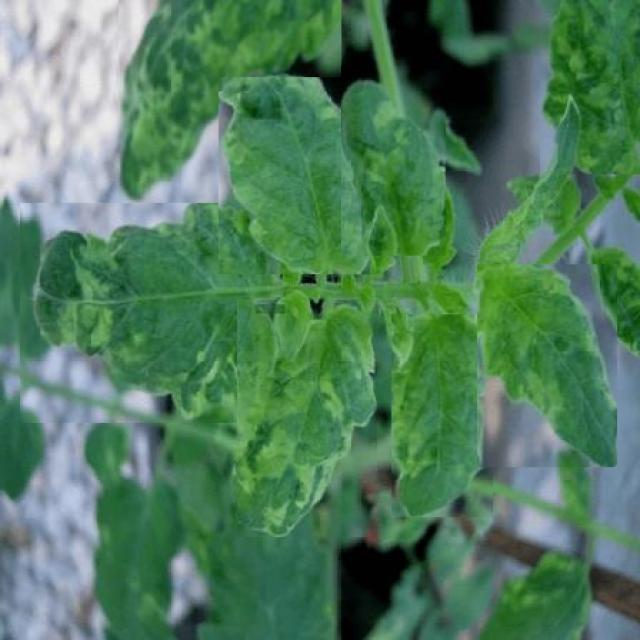Mosaic Virus: (20, 203, 283, 423), (118, 0, 342, 203), (237, 297, 377, 537), (219, 76, 370, 274), (477, 264, 617, 467), (391, 314, 493, 517), (340, 66, 446, 256), (540, 0, 640, 174)
